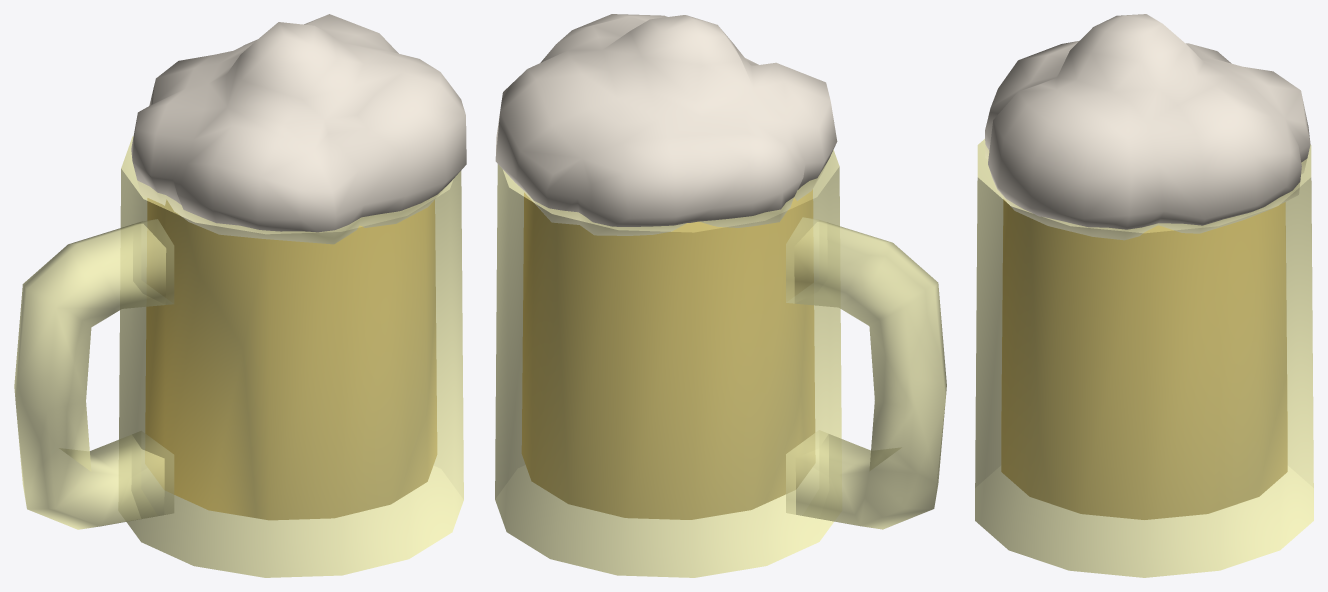
Rendered from EventDrink_geo.fbx.
3 views of the same model, side by side, from view 1: azimuth 30°, elevation 25°; view 2: azimuth 150°, elevation 25°; view 3: azimuth 270°, elevation 25° (orthographic).
Visible parts, largest first — view 1: EventDrink_geo; view 2: EventDrink_geo; view 3: EventDrink_geo.
Boxes of the visible parts, x1,y1,x2,y2 form: EventDrink_geo: (14,14,466,577); EventDrink_geo: (495,14,946,577); EventDrink_geo: (975,14,1313,577).
Bounding box in the file's own units: 0.4831 × 0.332 × 0.5204.
